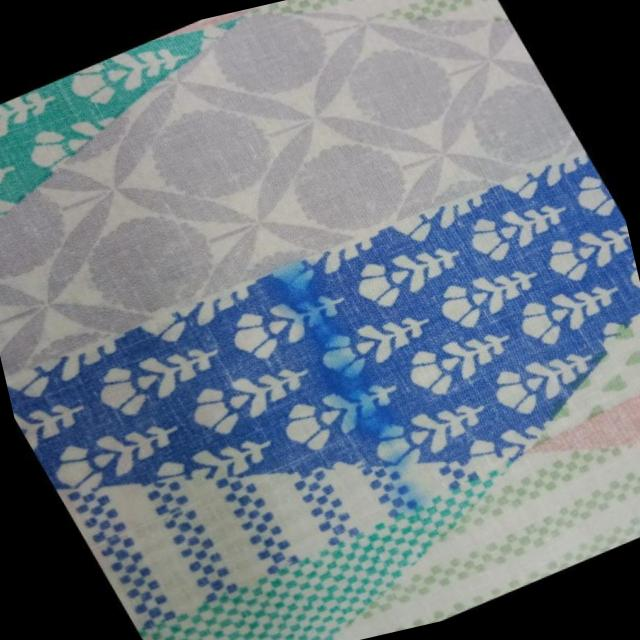color issues: (226, 204, 496, 565)
